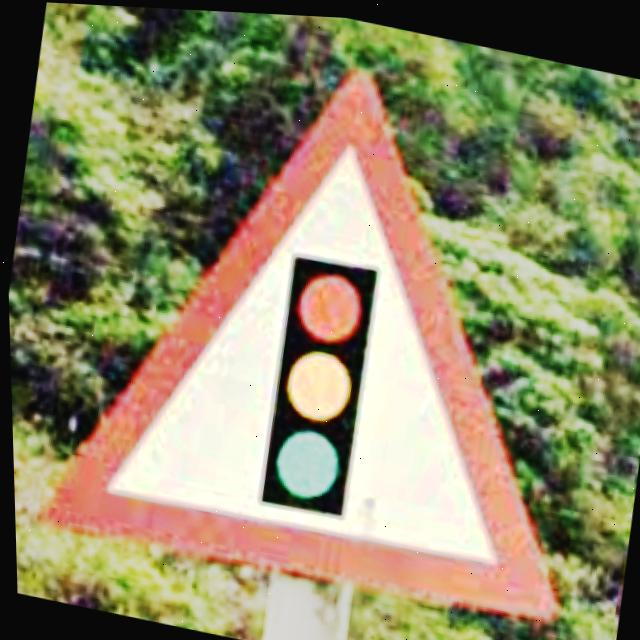signalahead: (38, 69, 554, 618)
